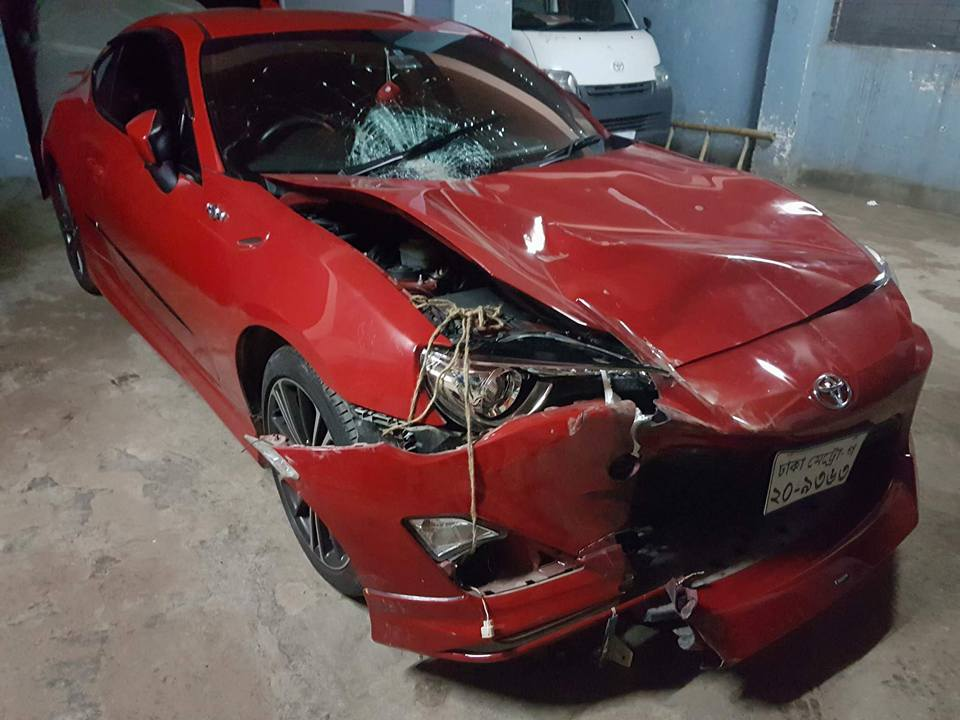registration_plate: (763, 429, 868, 515)
